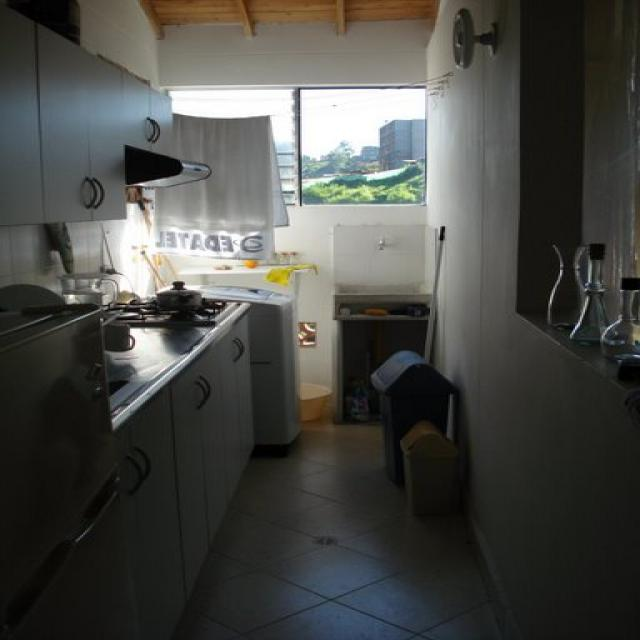2001: (293, 89, 427, 205)
2036: (103, 325, 220, 399)
Bottle: (565, 242, 613, 338)
Clock: (448, 8, 473, 66)
Pot: (153, 280, 202, 309)
Vase: (547, 240, 588, 330)
broom: (420, 225, 450, 359)
building: (378, 120, 423, 169)
ceiling beam: (138, 2, 443, 39)
cooker: (123, 144, 212, 191)
dishwasher: (207, 282, 305, 459)
drawer pull: (127, 446, 145, 481), (192, 374, 210, 408)
floor -X: (167, 420, 515, 638)
fridge crop: (5, 302, 150, 634)
handle bar: (78, 175, 107, 210), (227, 335, 250, 365), (142, 114, 163, 142)
kitchen cupboards: (32, 21, 127, 224)
pedal bin: (405, 421, 472, 512)
tile wall: (267, 541, 405, 599)
towel basket: (152, 111, 290, 254)
waste bin: (368, 342, 452, 486)
water filter: (53, 271, 122, 305)
water tub: (368, 235, 390, 251)
